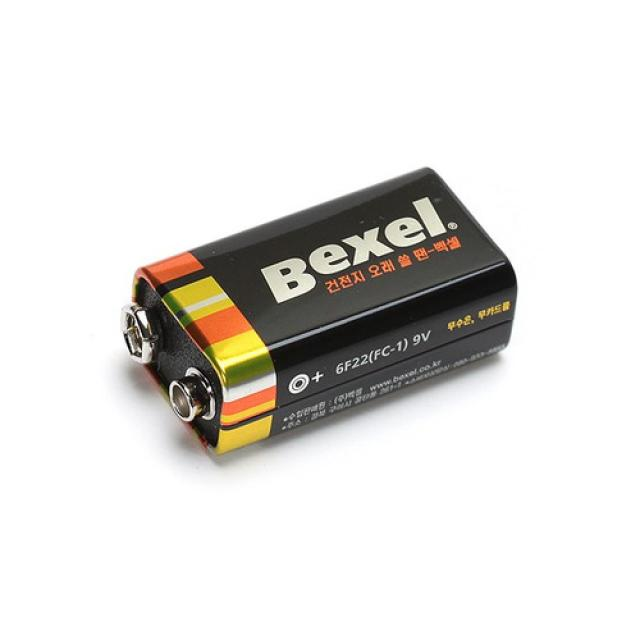battery: (120, 169, 522, 457)
